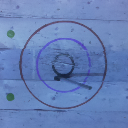Axe Tip: (60, 75, 73, 77)
